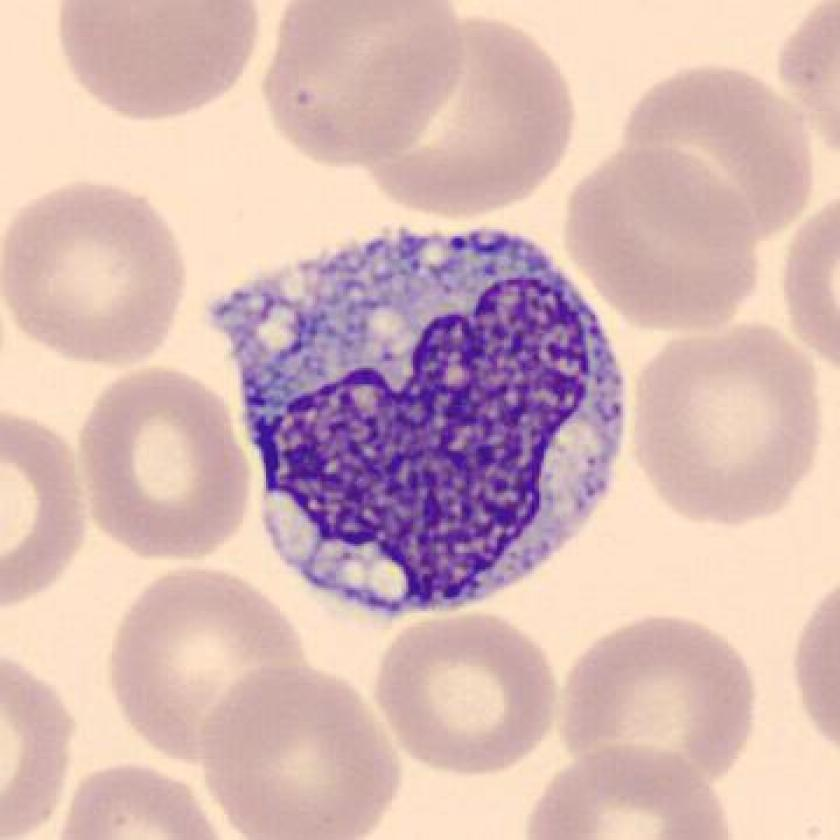monocyte: (197, 207, 647, 630)
